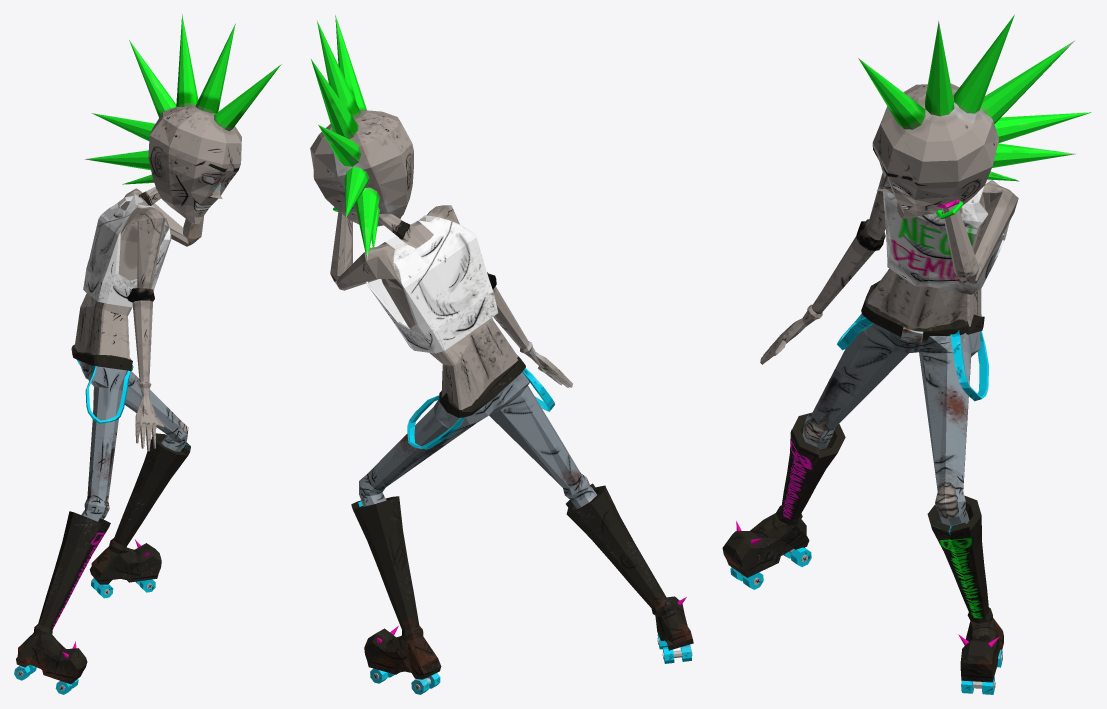
Rendered from punkAnimation_000056.obj.
3 views of the same model, side by side, from view 1: azimuth 30°, elevation 25°; view 2: azimuth 150°, elevation 25°; view 3: azimuth 270°, elevation 25° (orthographic). The views are drawn at different scales.
Parts seen in each view (by area): view 1: Cube.004_Cube.003; view 2: Cube.004_Cube.003; view 3: Cube.004_Cube.003.
Part boxes in pixels (x1=…): Cube.004_Cube.003: x1=14, y1=14, x2=281, y2=694; Cube.004_Cube.003: x1=310, y1=15, x2=693, y2=694; Cube.004_Cube.003: x1=722, y1=14, x2=1091, y2=694.
Size of the model in its own units: 3.67 by 6.67 by 3.11.
